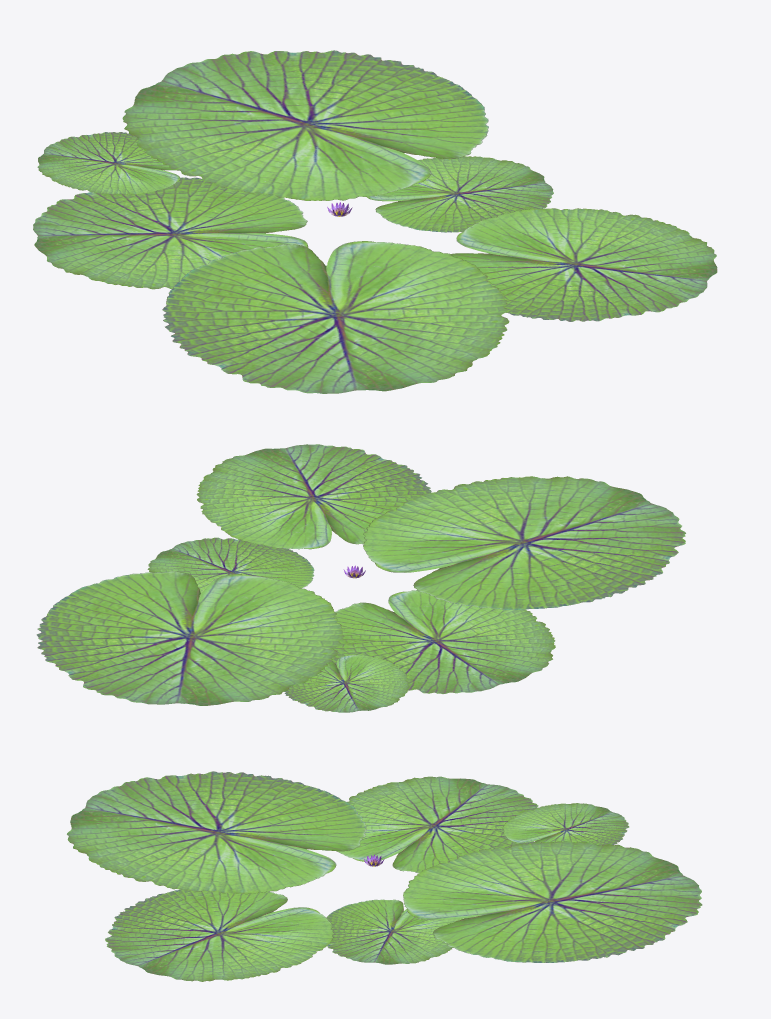
Rendered from lilyflower-pads_anim.FBX.
3 renders of one model, top to bottom at view 1: azimuth 30°, elevation 25°; view 2: azimuth 150°, elevation 25°; view 3: azimuth 270°, elevation 25°, orthographic. The views are drawn at different scales.
Parts seen in each view (by area): view 1: Box001, Box006, Box002, Box005, Box004, Box003; view 2: Box001, Box006, Box002, Box005, Box004, Box003; view 3: Box001, Box006, Box002, Box005, Box004, Box003.
Boxes of the visible parts, x1=… form: Box001: x1=162, y1=241, x2=509, y2=393; Box006: x1=122, y1=50, x2=488, y2=200; Box002: x1=451, y1=208, x2=717, y2=321; Box005: x1=33, y1=177, x2=308, y2=289; Box004: x1=366, y1=156, x2=553, y2=232; Box003: x1=37, y1=132, x2=180, y2=194; Box001: x1=363, y1=476, x2=685, y2=609; Box006: x1=36, y1=571, x2=344, y2=705; Box002: x1=196, y1=444, x2=431, y2=549; Box005: x1=332, y1=590, x2=555, y2=693; Box004: x1=147, y1=537, x2=314, y2=592; Box003: x1=284, y1=655, x2=409, y2=712; Box001: x1=67, y1=771, x2=366, y2=894; Box006: x1=403, y1=841, x2=702, y2=962; Box002: x1=105, y1=889, x2=334, y2=981; Box005: x1=337, y1=776, x2=538, y2=873; Box004: x1=326, y1=899, x2=462, y2=964; Box003: x1=502, y1=803, x2=629, y2=845.
Bounding box in the file's own units: 17.92 × 0.7326 × 22.39.
Materials: 3 (3 with a texture image).
